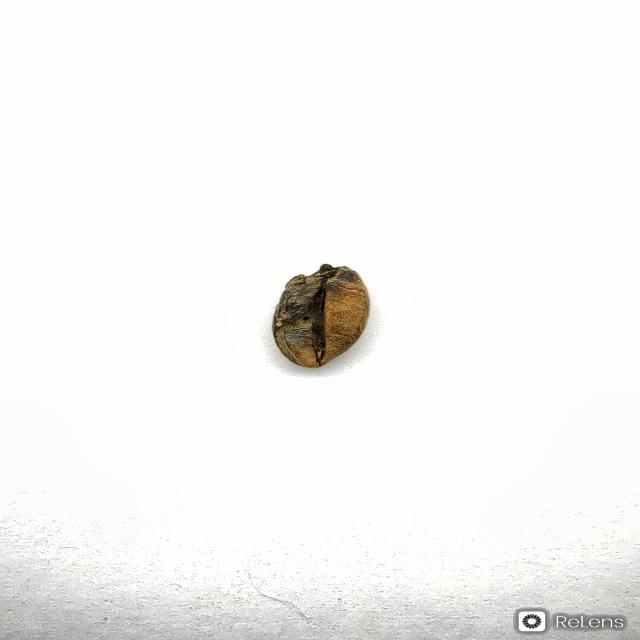Insect damage: (271, 263, 371, 368)
